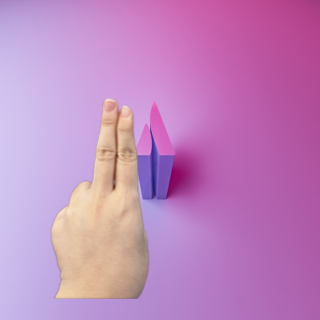DHAVE: (38, 90, 155, 297)
